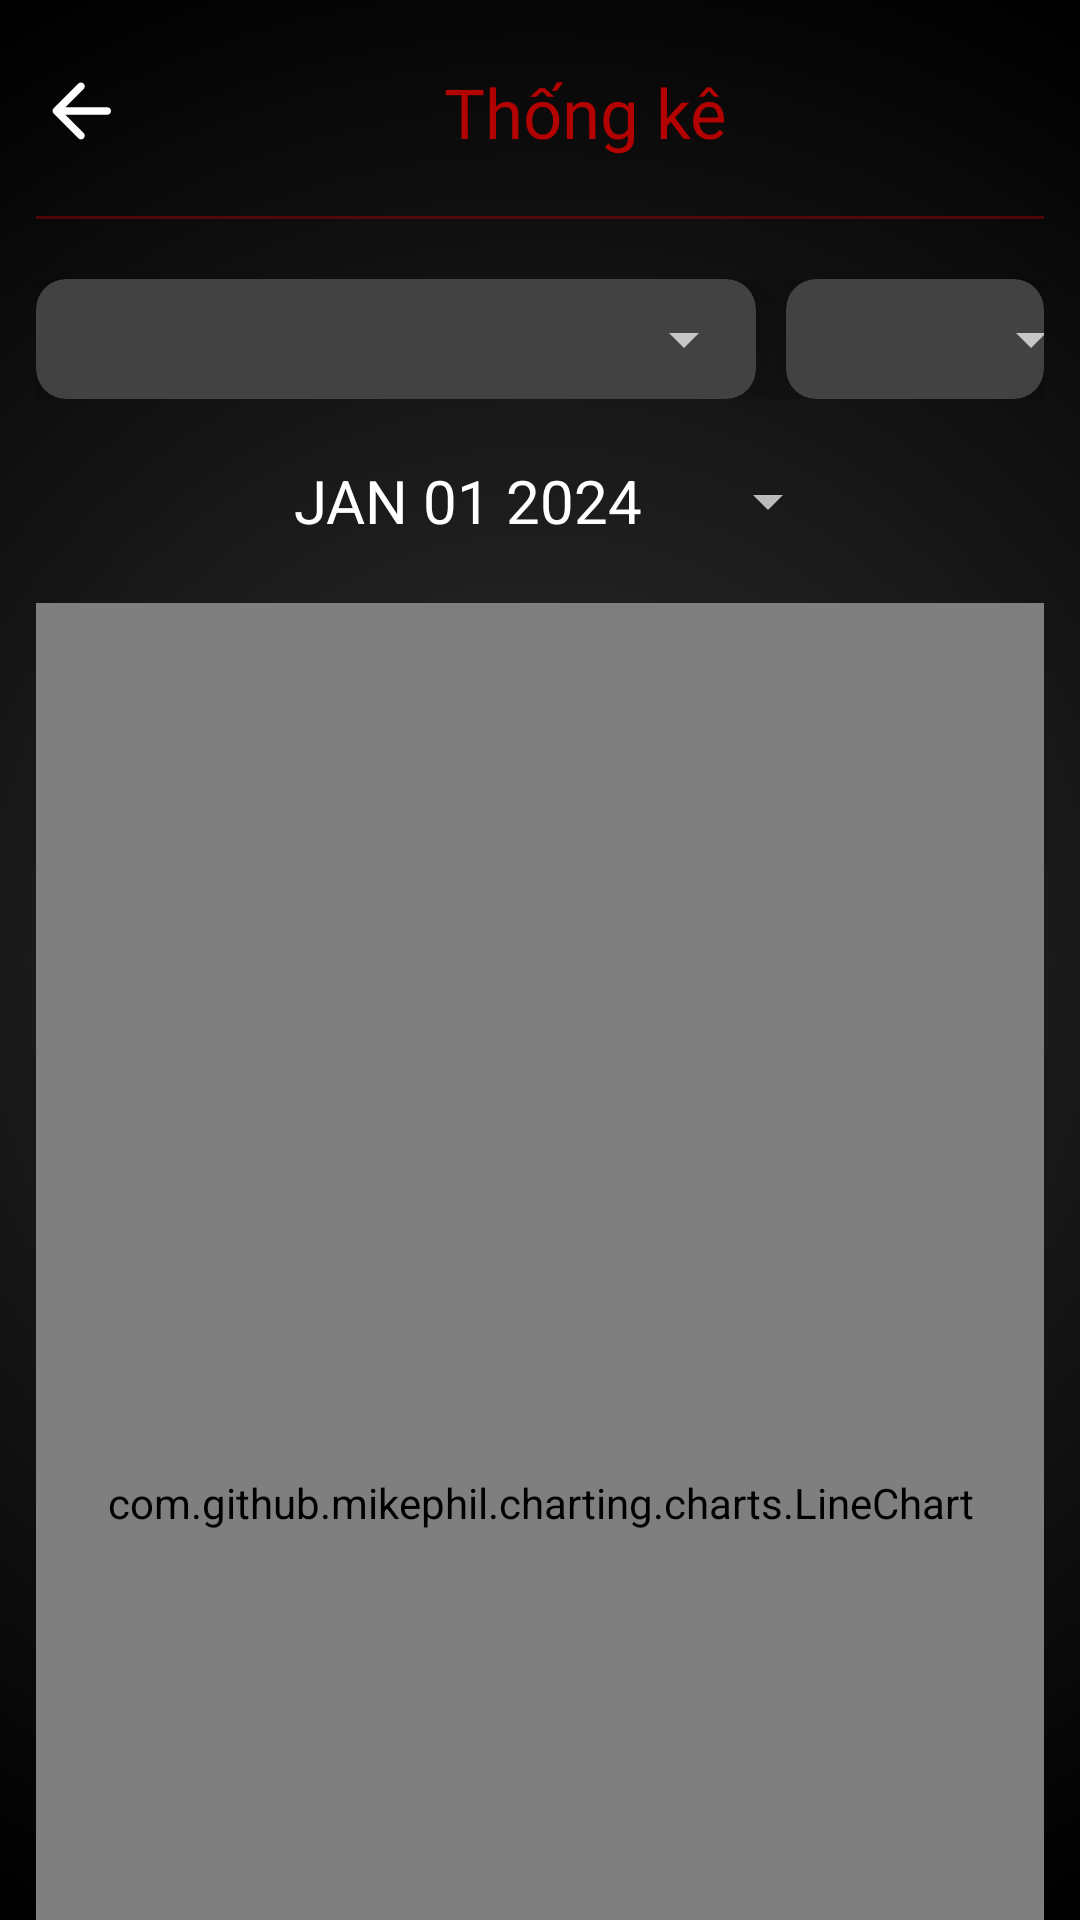

Screen size 1080w x 1920h. Icon name, then its center in pixels as (x=x, y=y):
arrow back: (x=81, y=111)
